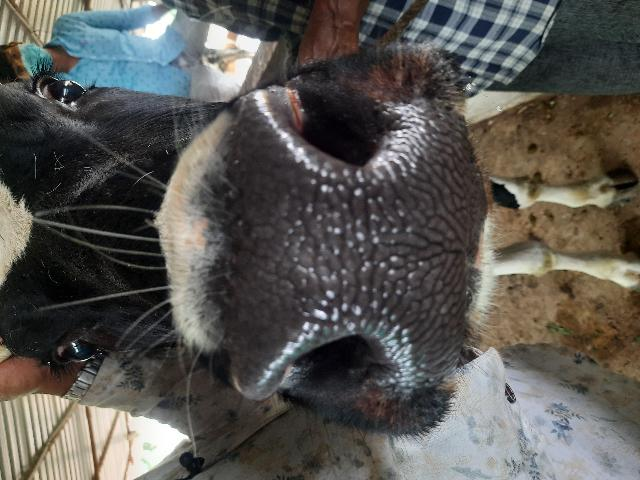Muzzle: (232, 124, 462, 338)
